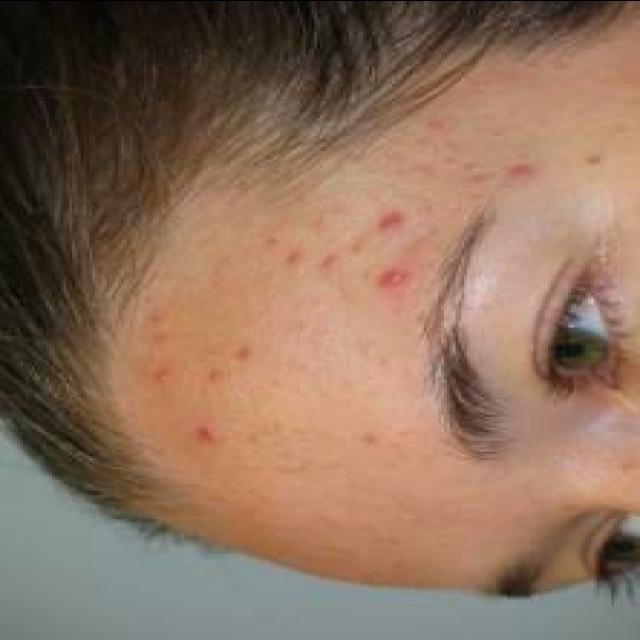Acne: (372, 266, 414, 296), (498, 156, 542, 184), (368, 207, 406, 238), (188, 420, 226, 450)
